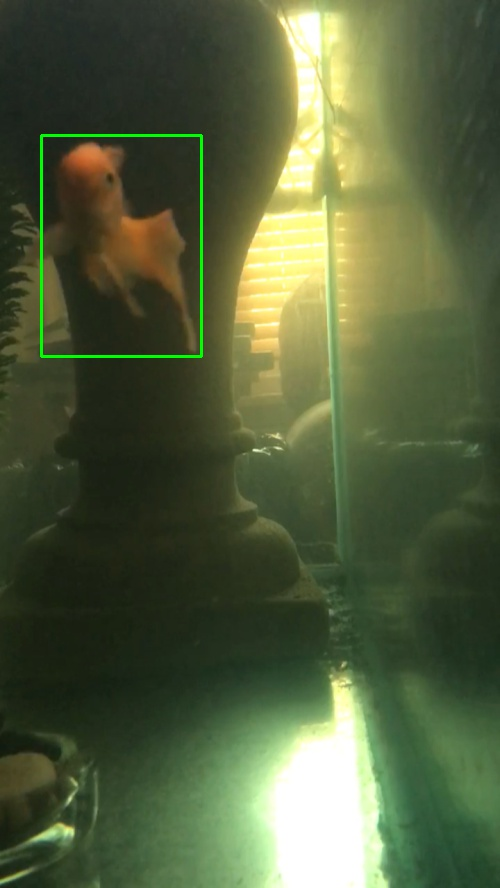goldfish: (41, 136, 200, 357)
